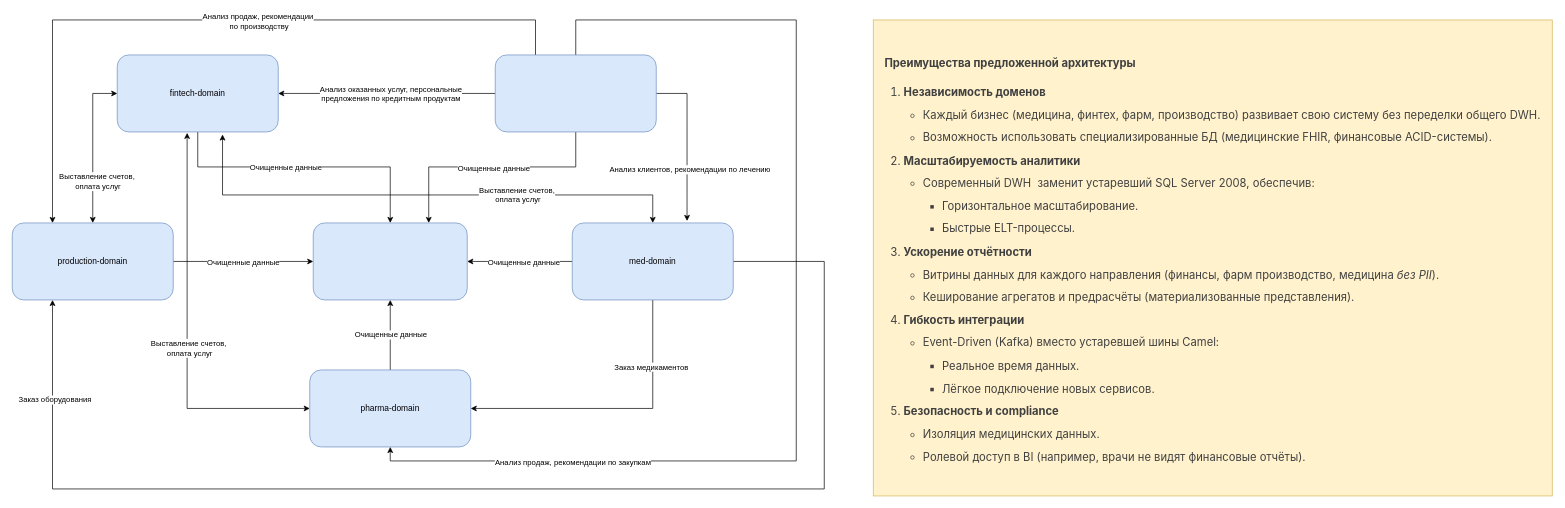
The diagram is 1565 pixels wide and 508 high, and some of its shapes have lost their labels. Each missing label, with the centre of its shape:
ai-domain: the point at 575,93
DWH: the point at 390,261
